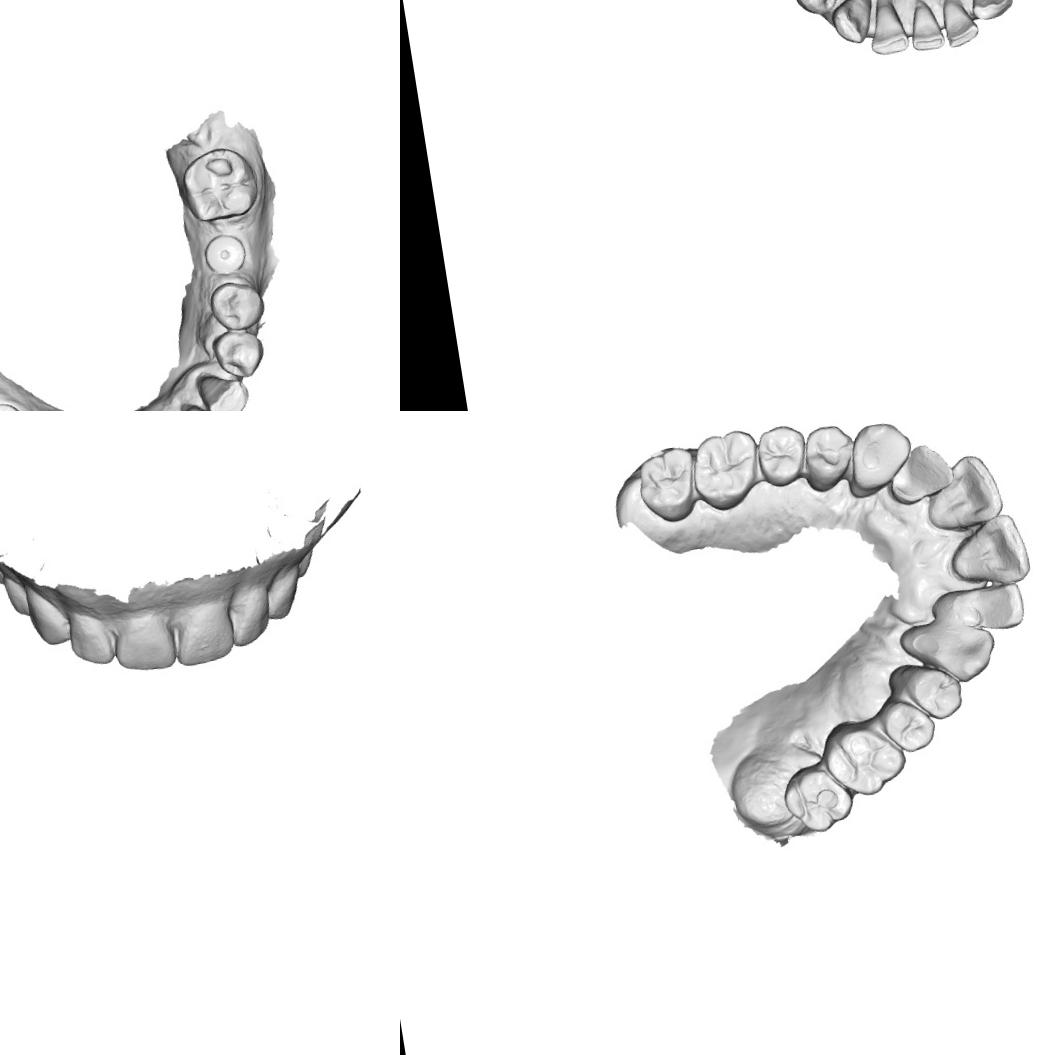canine: (896, 612, 1002, 693), (839, 416, 920, 500), (24, 576, 73, 648), (195, 364, 253, 411), (260, 562, 306, 621), (827, 0, 878, 47), (964, 0, 1015, 23)
implant: (200, 229, 251, 279)
incisor: (944, 510, 1034, 596), (919, 452, 1006, 534), (928, 579, 1028, 641), (108, 603, 179, 676), (884, 440, 958, 508), (168, 600, 238, 668), (64, 599, 117, 670), (223, 580, 276, 648), (861, 0, 911, 58), (905, 0, 947, 54), (938, 0, 981, 49), (179, 394, 233, 411)
molar: (818, 712, 912, 802), (176, 142, 264, 228), (686, 426, 766, 515), (778, 758, 858, 838), (632, 442, 702, 528)
premolar: (885, 656, 968, 728), (798, 421, 861, 495), (752, 418, 812, 492), (874, 692, 940, 758), (205, 275, 268, 336), (210, 322, 268, 384), (0, 569, 31, 619), (789, 0, 842, 18)
